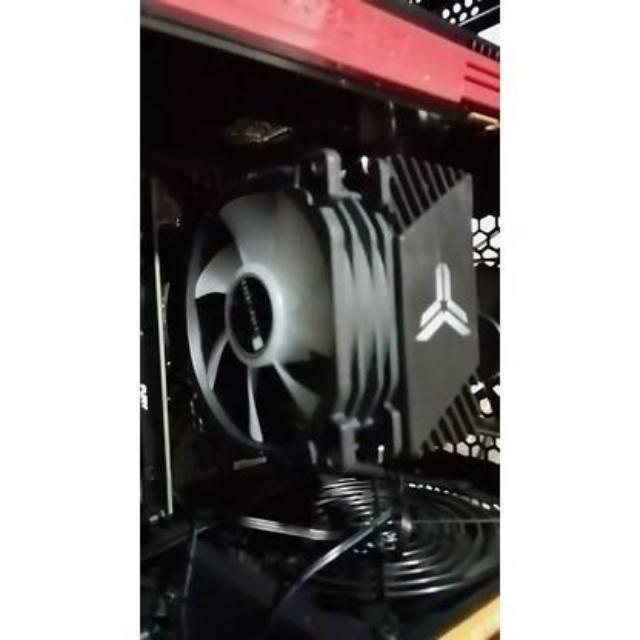CPU_Fan: (152, 148, 480, 462)
